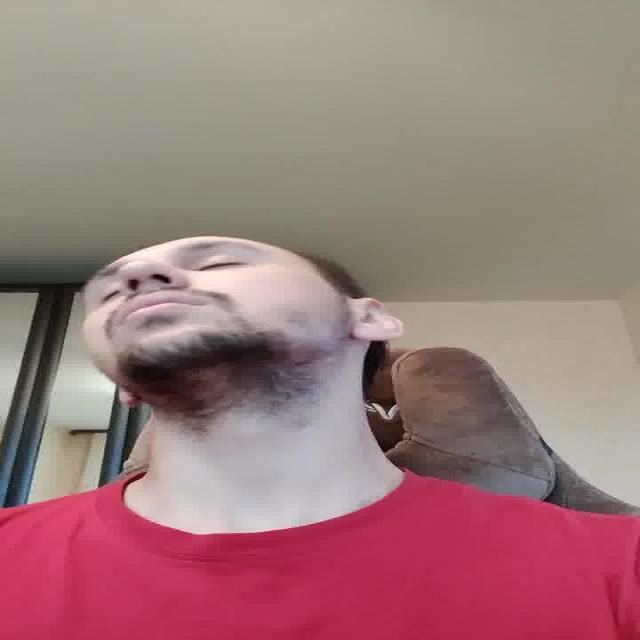earlobe: (344, 297, 404, 343)
